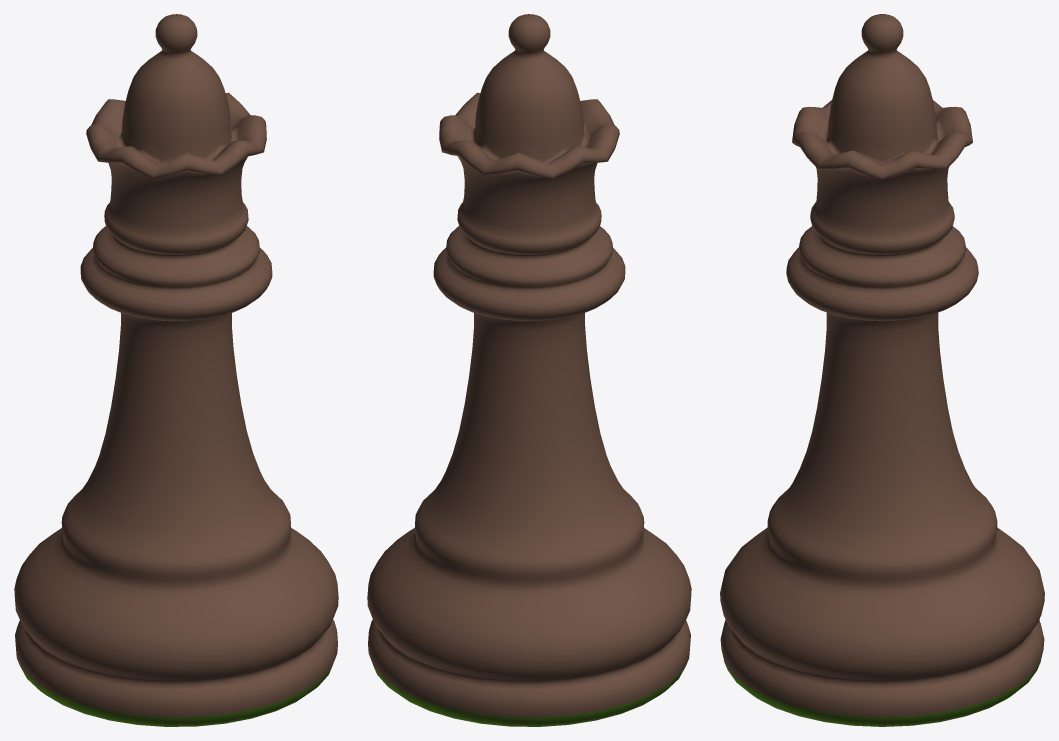
The model's file is blackqueen.glb.
3 renders of one model, left to right at view 1: azimuth 30°, elevation 25°; view 2: azimuth 150°, elevation 25°; view 3: azimuth 270°, elevation 25°, orthographic.
Parts seen in each view (by area): view 1: blackqueen; view 2: blackqueen; view 3: blackqueen.
Boxes of the visible parts, x1,y1,x2,y2 form: blackqueen: [14, 14, 338, 726]; blackqueen: [367, 14, 691, 726]; blackqueen: [720, 14, 1044, 726].
Bounding box in the file's own units: 0.6465 × 1.45 × 0.6465.
